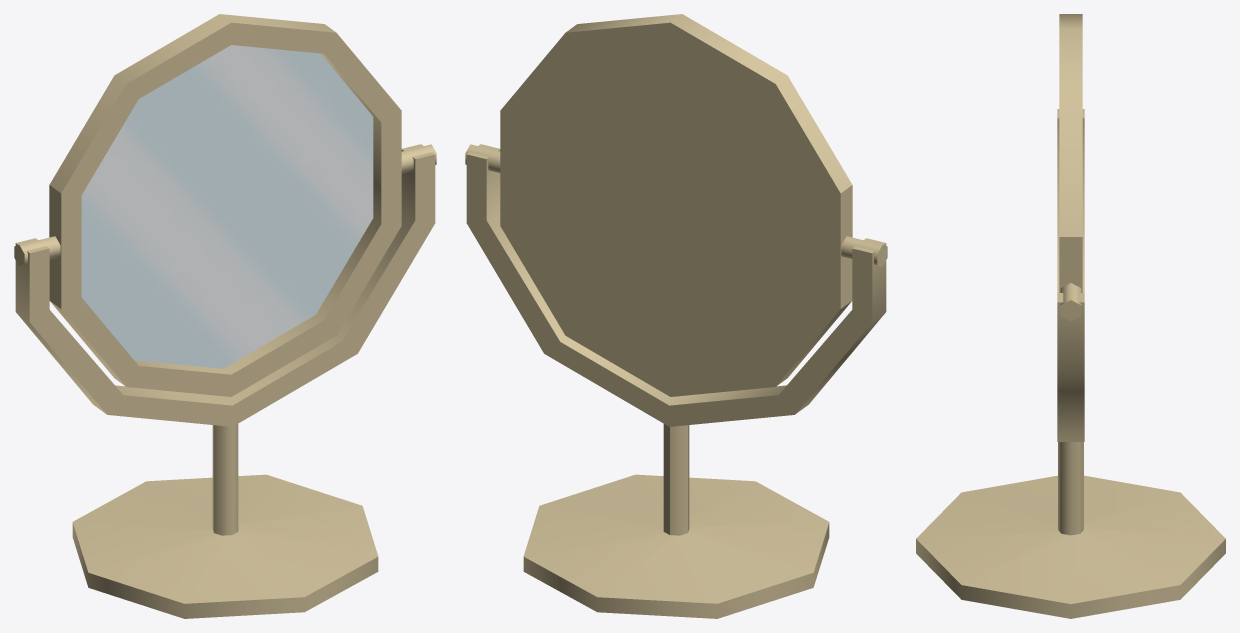
File: 40_prop_desk mirror.FBX
3 views of the same model, side by side, from view 1: azimuth 30°, elevation 25°; view 2: azimuth 150°, elevation 25°; view 3: azimuth 270°, elevation 25° (orthographic). The views are drawn at different scales.
Parts seen in each view (by area): view 1: prop_desk mirror (×2); view 2: prop_desk mirror (×2); view 3: prop_desk mirror (×2).
Boxes of the visible parts, <box> form: prop_desk mirror (×2): <box>14,14,436,618</box>; prop_desk mirror (×2): <box>465,14,887,618</box>; prop_desk mirror (×2): <box>916,14,1225,618</box>.
Size of the model in its own units: 23.29 by 28.95 by 15.5.
